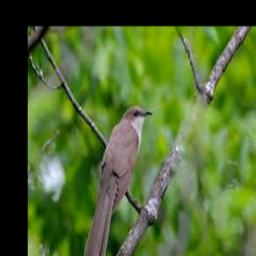Cuckoo: (84, 106, 153, 256)
